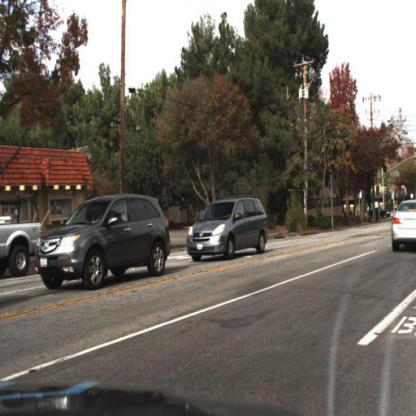car: (27, 178, 174, 300), (33, 191, 173, 290), (174, 184, 286, 274), (1, 213, 45, 275), (385, 179, 415, 262), (388, 194, 416, 254), (365, 202, 391, 220)
